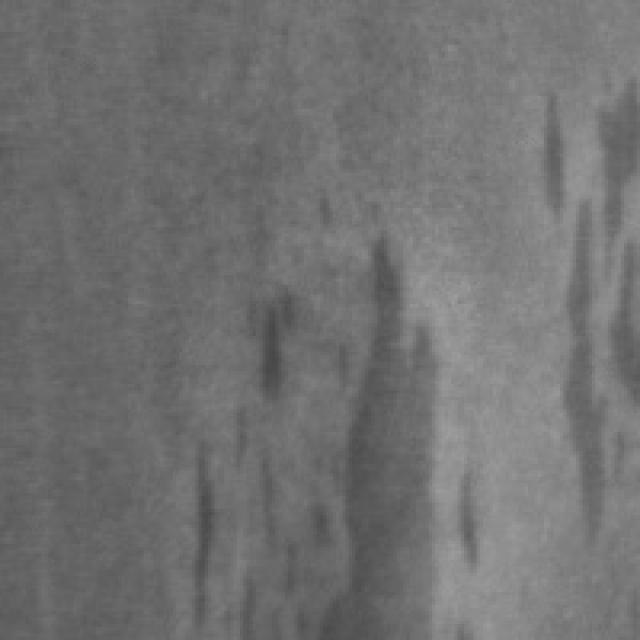inclusion: (298, 221, 492, 634), (538, 67, 640, 540), (192, 422, 314, 637), (237, 275, 317, 413)
